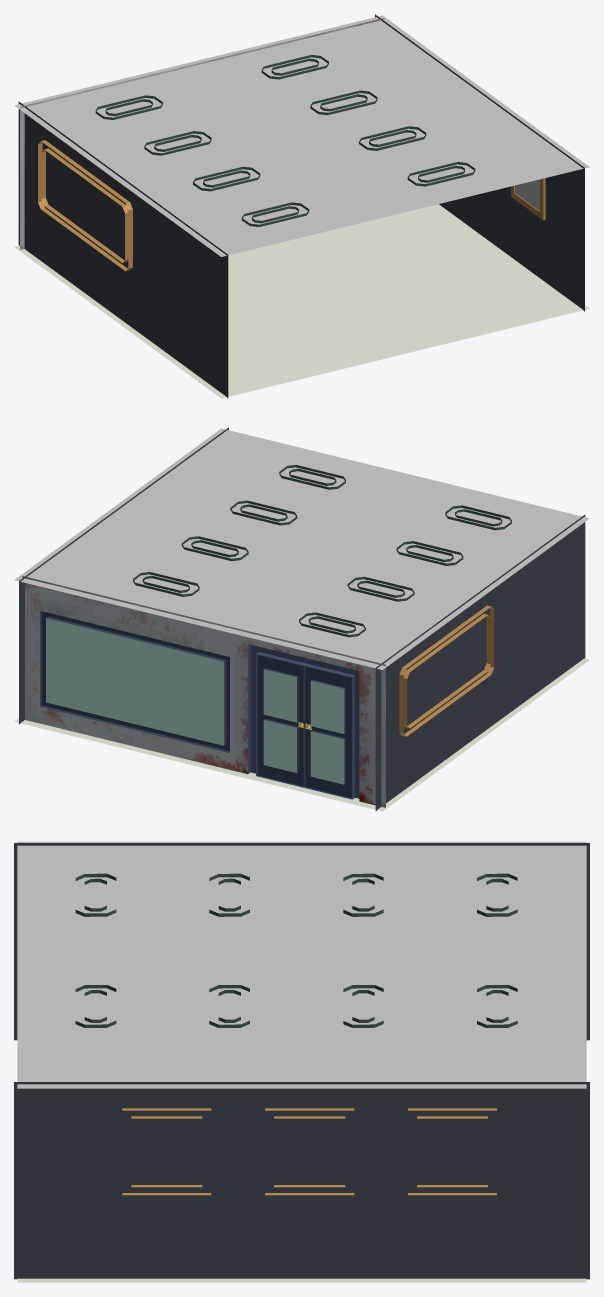
File: Sala.fbx
The picture shows the model from 3 angles, top to bottom: view 1: azimuth 30°, elevation 25°; view 2: azimuth 150°, elevation 25°; view 3: azimuth 270°, elevation 25°; orthographic projection. The views are drawn at different scales.
Visible parts, largest first — view 1: Techo, Piso, Pared_I, Pared_D, Marco_Luz, Marco_Cuadro2, Pared_Frente, Cuadro1; view 2: Techo, Pared_I, Pared_Frente, Ventana, Marco_Luz, Marco_Ventana, Ventana_Puerta_D.001, Piso, Ventana_Puerta_D, Puerta_D, Puerta_I, Marco_Puerta (+2 smaller); view 3: Techo, Pared_D, Marco_Luz, Pared_I, Marco_Cuadro1, Piso.
Boxes of the visible parts, x1,y1,x2,y2 form: Techo: (14, 15, 589, 256); Piso: (14, 204, 589, 398); Pared_I: (18, 101, 228, 397); Pared_D: (375, 14, 584, 311); Marco_Luz: (95, 55, 475, 226); Marco_Cuadro2: (38, 140, 132, 271); Pared_Frente: (20, 18, 383, 249); Cuadro1: (515, 179, 539, 210); Techo: (14, 428, 589, 669); Pared_I: (375, 514, 585, 810); Pared_Frente: (22, 576, 385, 807); Ventana: (46, 618, 224, 745); Marco_Luz: (133, 465, 511, 637); Marco_Ventana: (40, 611, 229, 752); Ventana_Puerta_D.001: (310, 681, 344, 784); Piso: (14, 658, 589, 811); Ventana_Puerta_D: (263, 669, 296, 772); Puerta_D: (256, 654, 304, 787); Puerta_I: (304, 666, 352, 799); Marco_Puerta: (248, 644, 359, 799); Techo: (17, 841, 586, 1088); Pared_D: (14, 1082, 589, 1279); Marco_Luz: (75, 873, 517, 1027); Pared_I: (14, 843, 589, 1040); Marco_Cuadro1: (122, 1108, 496, 1195); Piso: (17, 1278, 586, 1282).
Bounding box in the file's own units: 61710 × 23118 × 60845.
